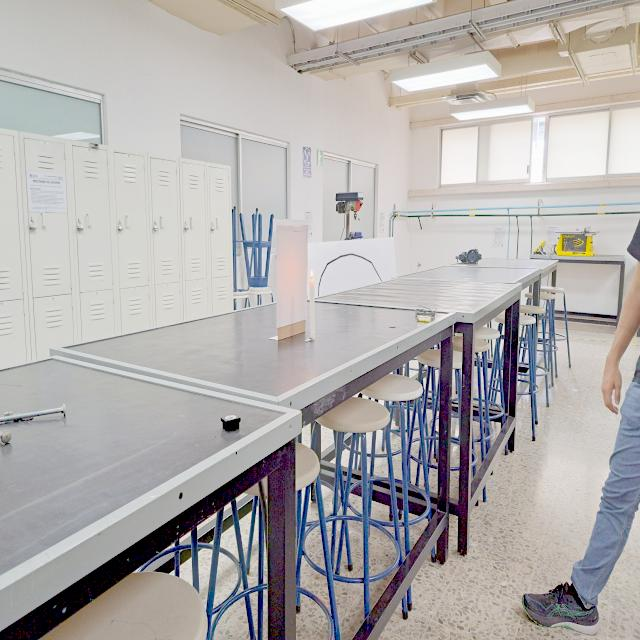candle: (308, 264, 316, 340)
wall: (274, 217, 306, 338)
